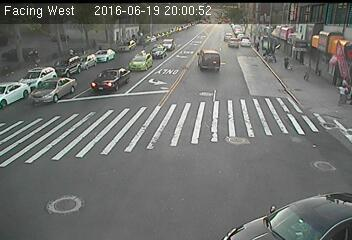neg: (172, 183, 194, 212), (64, 113, 84, 139), (203, 50, 222, 76), (55, 189, 73, 213), (292, 137, 310, 161), (170, 34, 187, 56), (186, 117, 202, 139), (93, 125, 109, 147), (137, 134, 153, 156), (106, 181, 122, 202), (263, 106, 278, 127), (26, 146, 41, 167), (164, 73, 179, 94), (213, 91, 228, 111), (104, 34, 119, 53), (315, 28, 329, 46), (245, 34, 258, 53), (221, 134, 234, 152), (48, 51, 60, 68), (72, 66, 84, 82), (97, 74, 109, 90), (250, 181, 262, 197), (129, 57, 141, 72), (303, 68, 312, 80)
pos: (332, 79, 350, 104), (281, 54, 293, 71)
